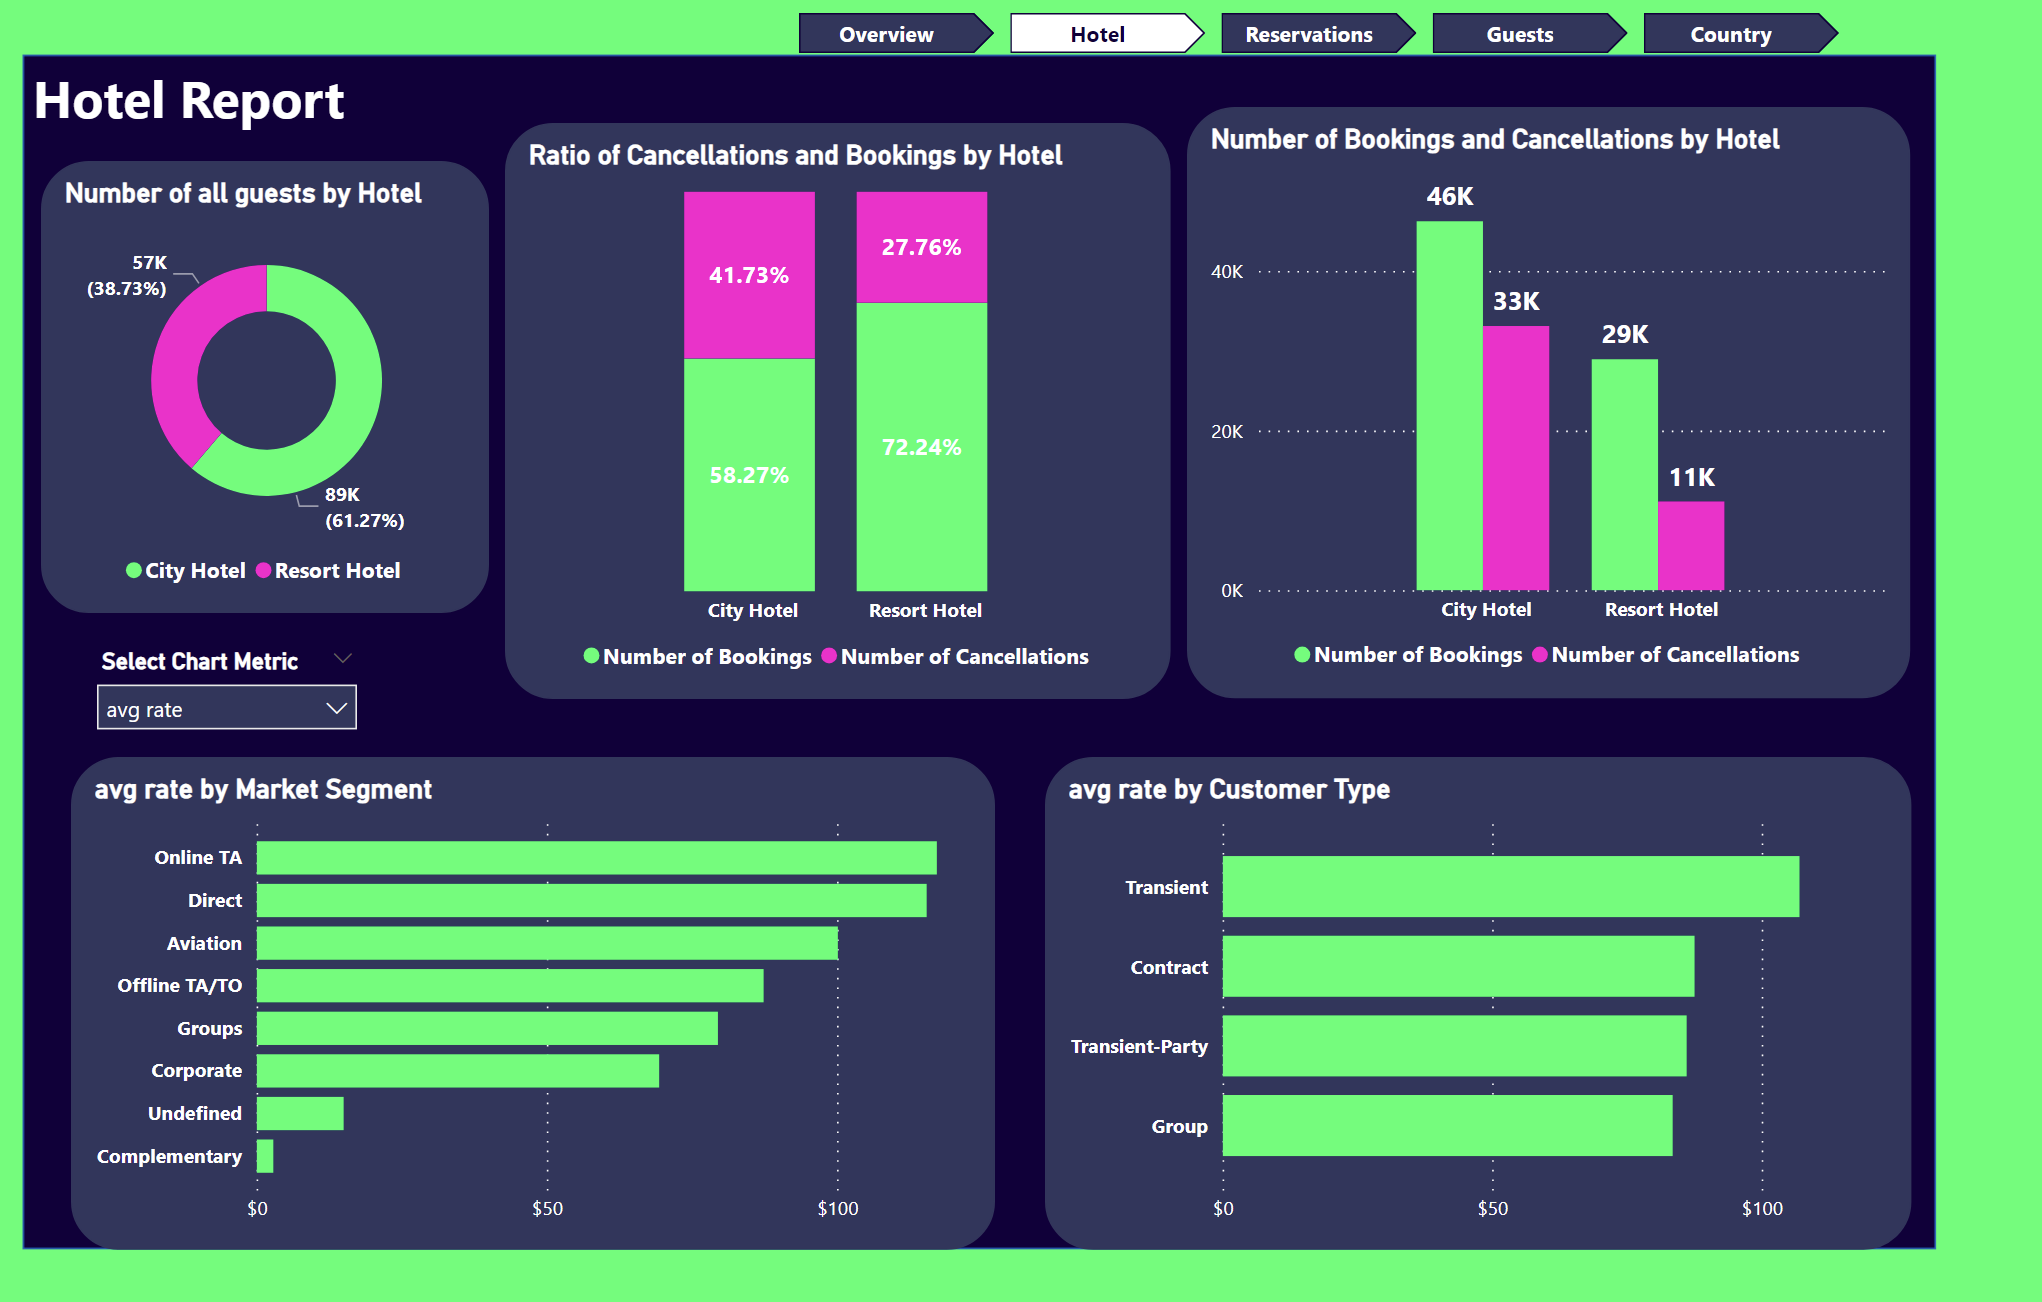

What the dashboard file says about the page in this screenshot:
{"tool":"powerbi","page":{"name":"Hotel","canvas":[1280,820],"ordinal":1},"visuals":[{"type":"pageNavigator","box":[500,10,650,25],"z":0},{"type":"donutChart","title":"Number of all guests by Hotel","fields":{"Category":["hotel_bookings.Hotel"],"Y":["All Measures.# of all guests"]},"box":[26.7,102.7,280,282.7],"z":1000},{"type":"hundredPercentStackedColumnChart","title":"Ratio of Cancellations and Bookings by Hotel","fields":{"Category":["hotel_bookings.hotel"],"Y":["Measure.# of bookings","Measure.# of cancellations"]},"box":[316,78.7,416,360],"z":2000},{"type":"clusteredColumnChart","title":"Number of Bookings and Cancellations by Hotel","fields":{"Category":["hotel_bookings.Hotel"],"Y":["Measure.# of bookings","Measure.# of cancellations"]},"box":[742.7,69.3,452,369.3],"z":3000},{"type":"clusteredBarChart","fields":{"Y":["All Measures.Avg Daily Rate"],"Category":["hotel_bookings.Market Segment"]},"box":[45.3,474.7,577.3,308],"z":4000},{"type":"slicer","fields":{"Values":["Parameter 2.Parameter 2"]},"box":[50.7,401.3,182.7,73.3],"z":5000},{"type":"clusteredBarChart","fields":{"Y":["All Measures.Avg Daily Rate"],"Category":["hotel_bookings.Customer Type"]},"box":[653.3,474.7,541.3,308],"z":6000},{"type":"textbox","box":[16,36,217.3,65.3],"z":7000}]}

Visuals, with their boxes in screenshot pixels (x1, y1, x2, y2), scaled from the page's 1280x820 canvas onto the 2042x1302 screenshot:
pageNavigator: BBox(798, 16, 1835, 56)
"Number of all guests by Hotel" donutChart: BBox(43, 163, 489, 612)
"Ratio of Cancellations and Bookings by Hotel" hundredPercentStackedColumnChart: BBox(504, 125, 1168, 697)
"Number of Bookings and Cancellations by Hotel" clusteredColumnChart: BBox(1185, 110, 1906, 696)
clusteredBarChart - All Measures.Avg Daily Rate x hotel_bookings.Market Segment: BBox(72, 754, 993, 1243)
slicer - Parameter 2.Parameter 2: BBox(81, 637, 372, 754)
clusteredBarChart - All Measures.Avg Daily Rate x hotel_bookings.Customer Type: BBox(1042, 754, 1906, 1243)
textbox: BBox(26, 57, 372, 161)
